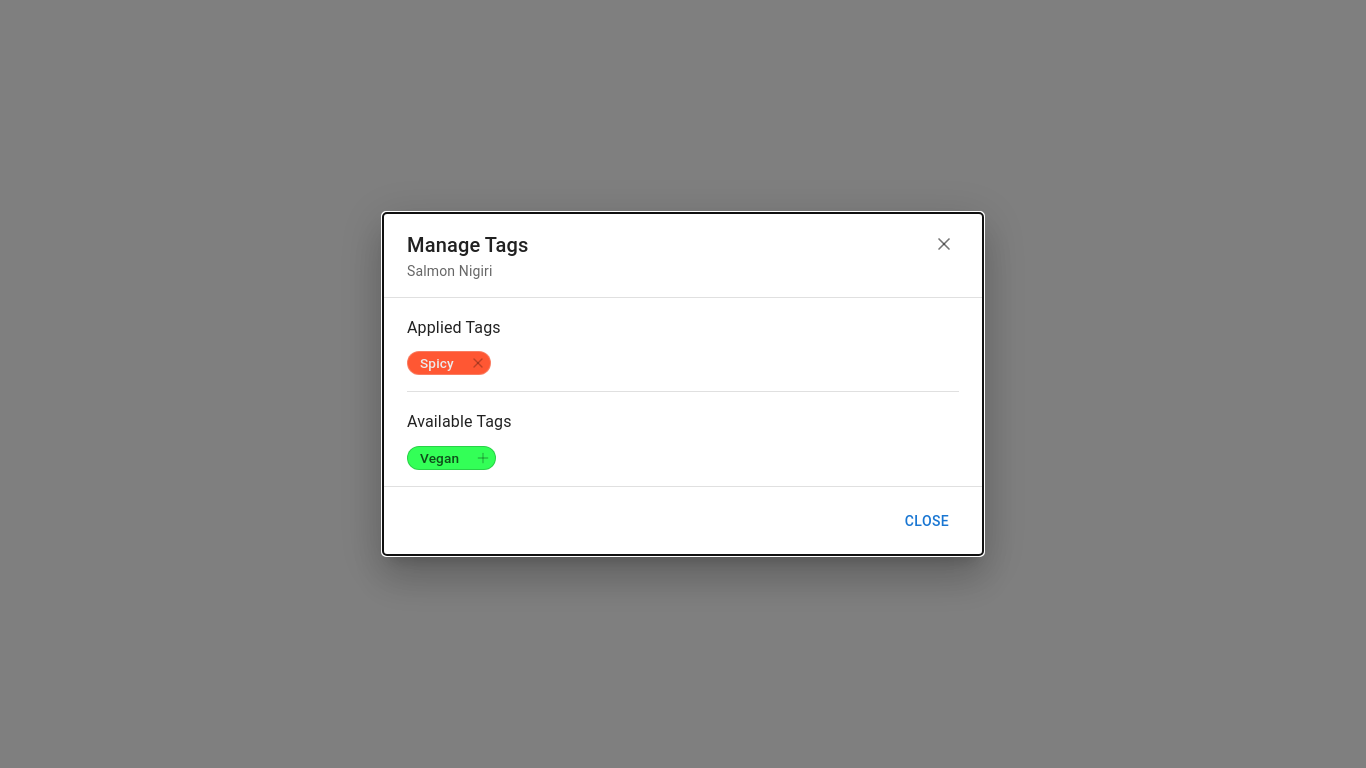
Test: Tags dialog › falls back to a general message when removing fails without a reason
Click the button "Spicy" at (449, 363), box x1=407 y1=351 x2=491 y2=375
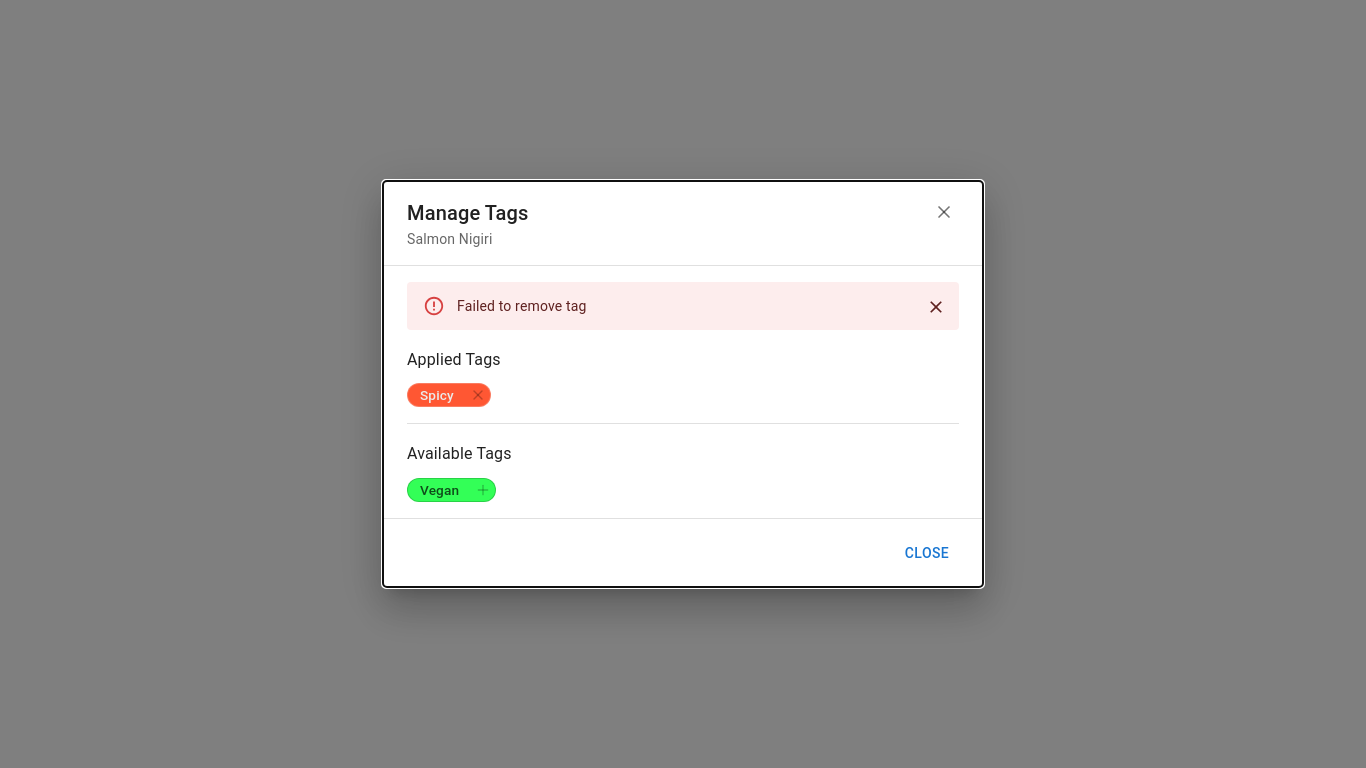
Expected: the text "Spicy" is shown, x1=420 y1=387 x2=454 y2=403
Now the message reads "Failed to remove tag", box x1=457 y1=298 x2=586 y2=314
